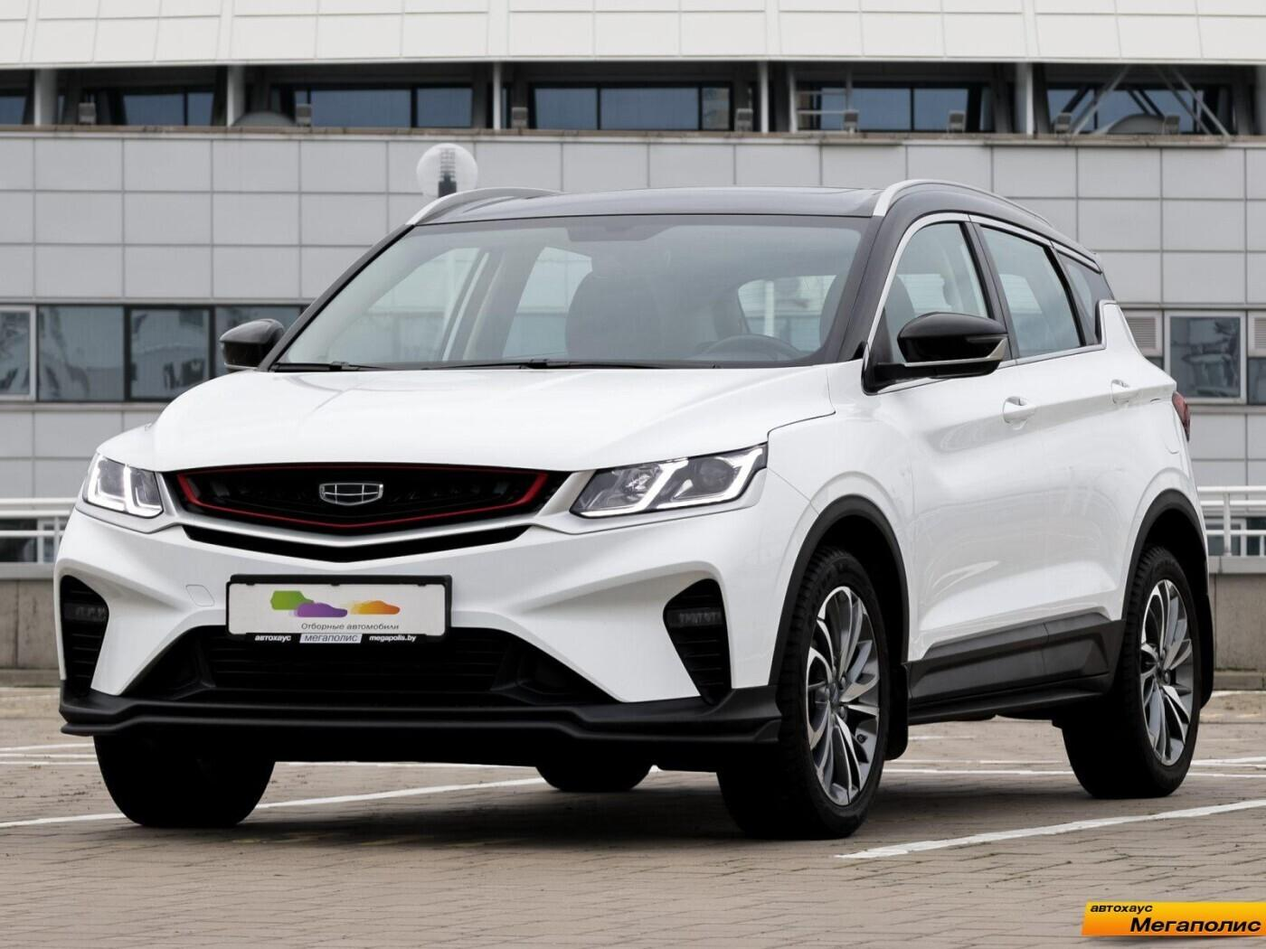Coolray_2019-2023: (49, 168, 1209, 842)
